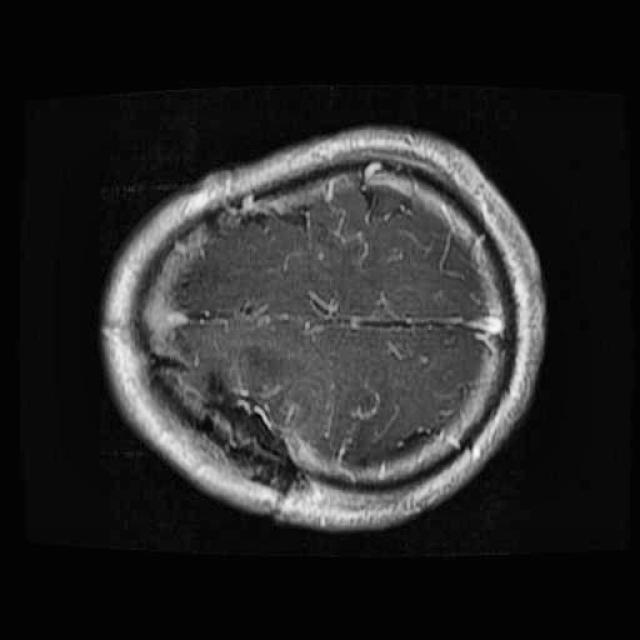Non-Tumor: (168, 348, 316, 519)
